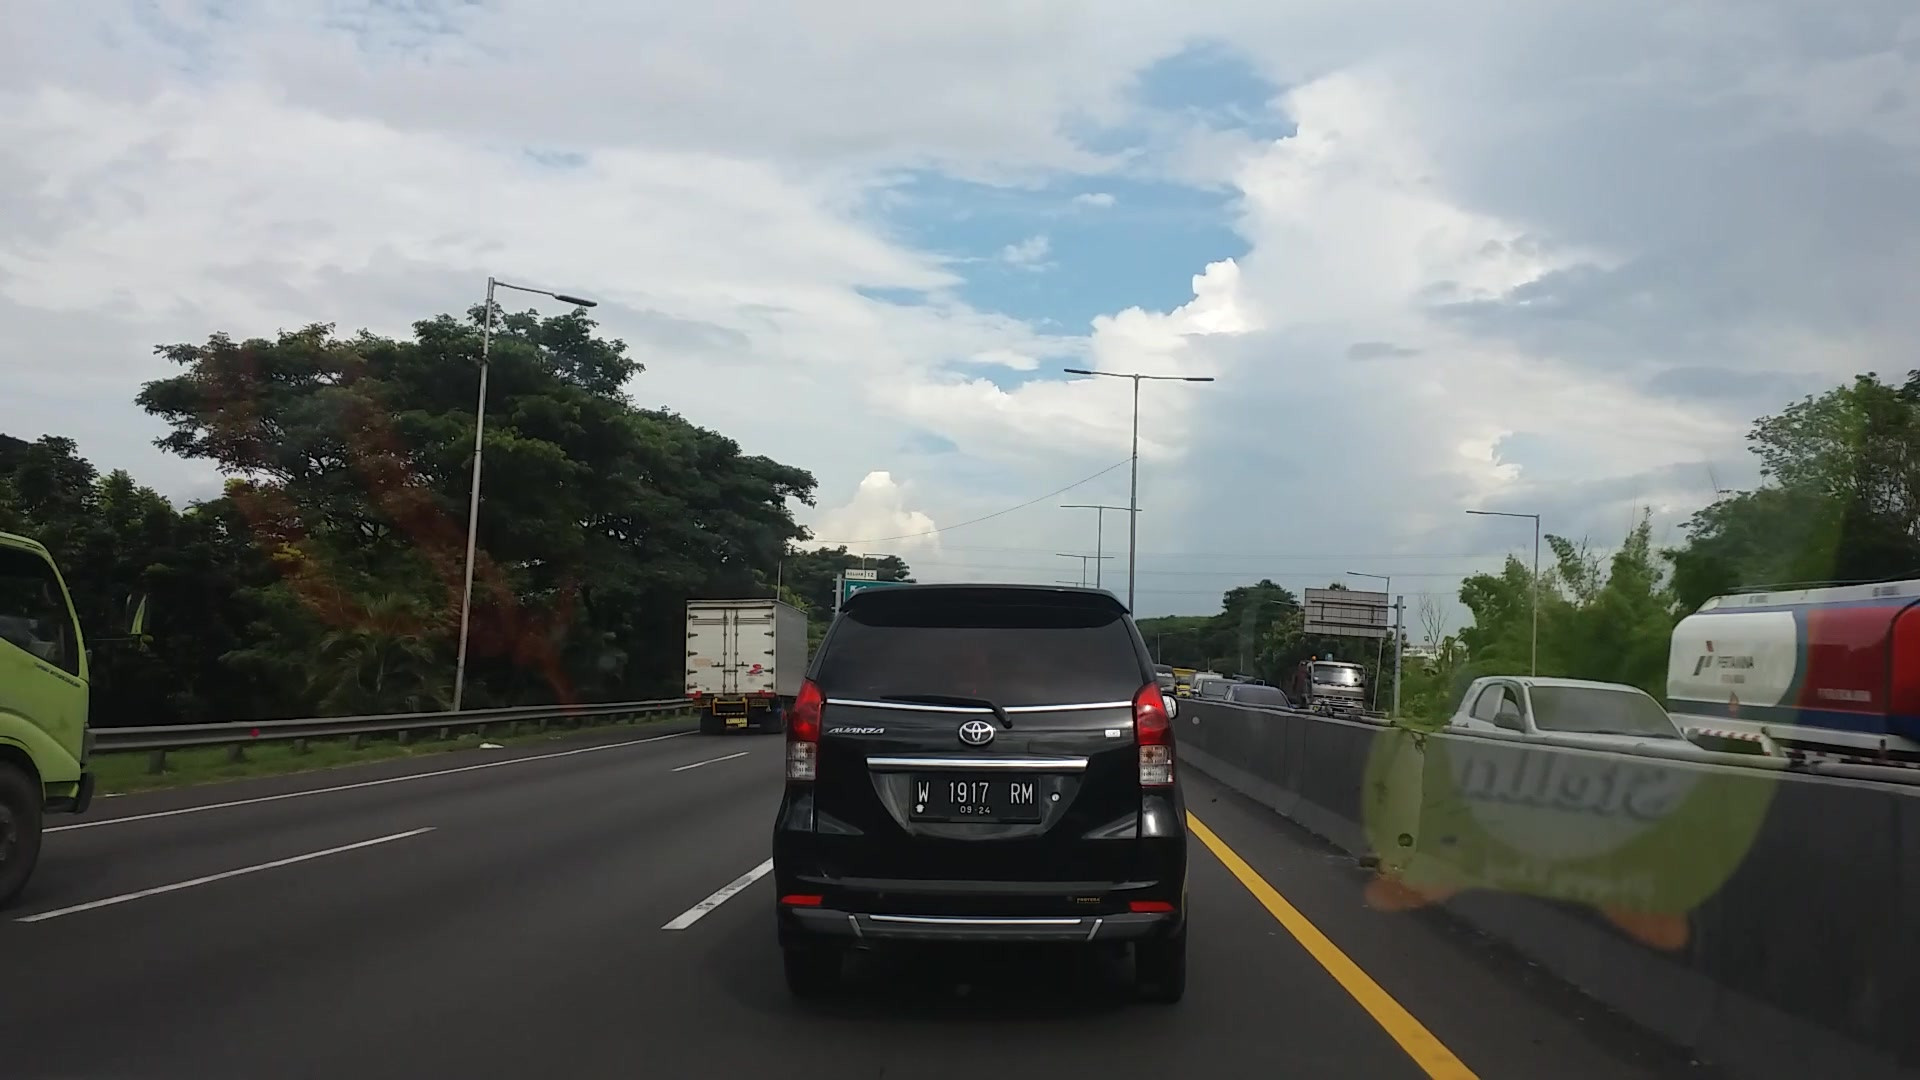plate_positive: (909, 771, 1042, 823)
